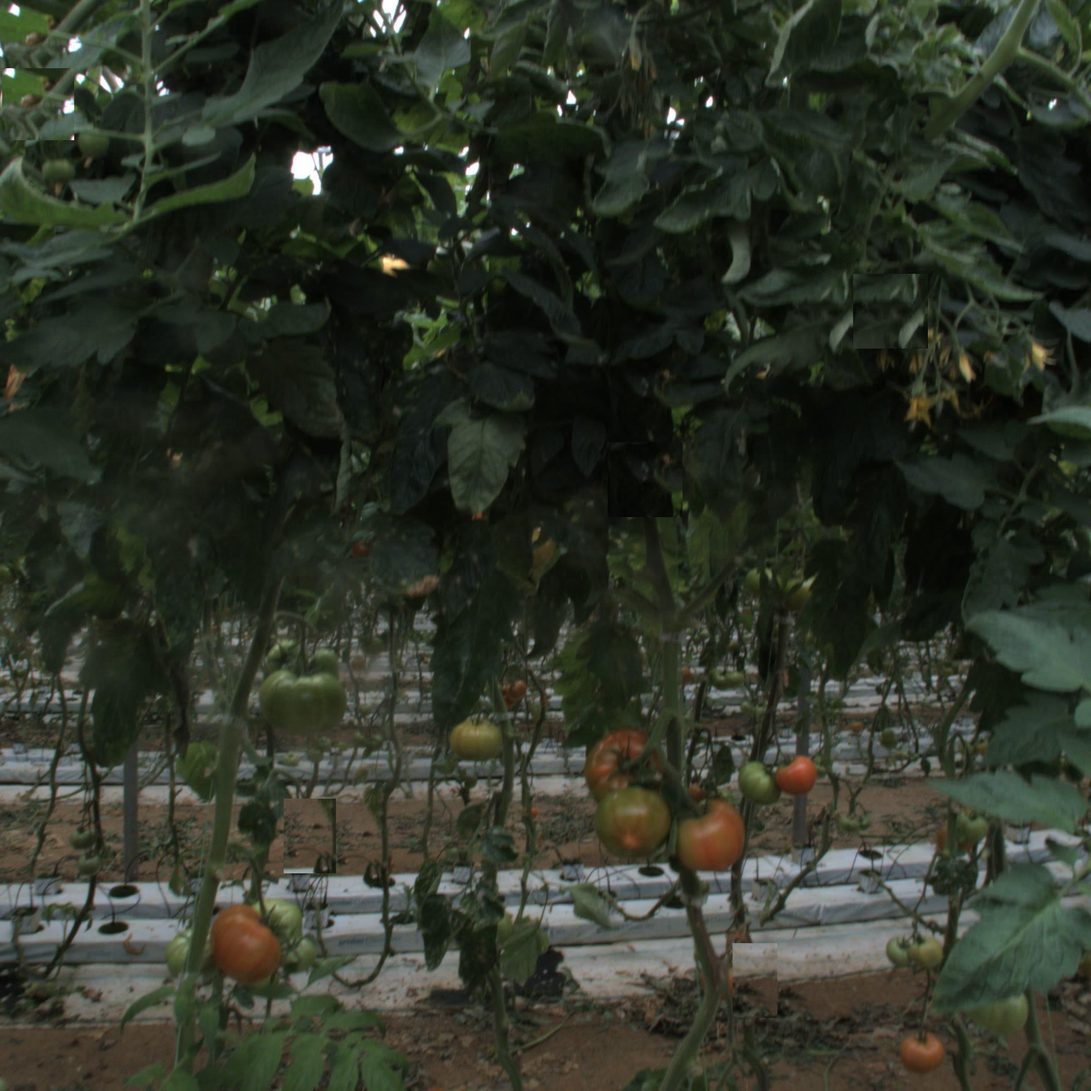['unripe', 'semi-ripe', 'fully-ripe']: (262, 656, 345, 739), (980, 987, 1028, 1035), (739, 758, 787, 806), (452, 712, 500, 760)
